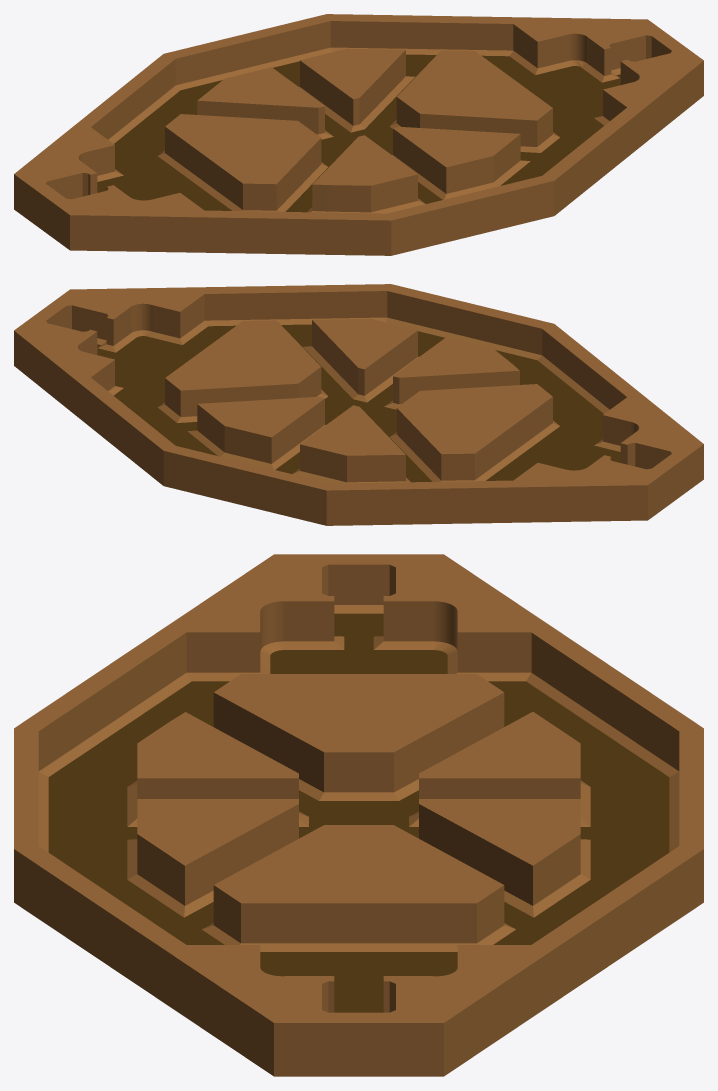
Rendered from Arena2Test V5.fbx.
3 renders of one model, top to bottom at view 1: azimuth 30°, elevation 25°; view 2: azimuth 150°, elevation 25°; view 3: azimuth 270°, elevation 25°, orthographic. The views are drawn at different scales.
Parts seen in each view (by area): view 1: Model; view 2: Model; view 3: Model.
Boxes of the visible parts, bbox=[...] form: Model: bbox=[14, 14, 703, 255]; Model: bbox=[14, 284, 703, 525]; Model: bbox=[14, 554, 703, 1076].
Bounding box in the file's own units: 225 × 12 × 140.
